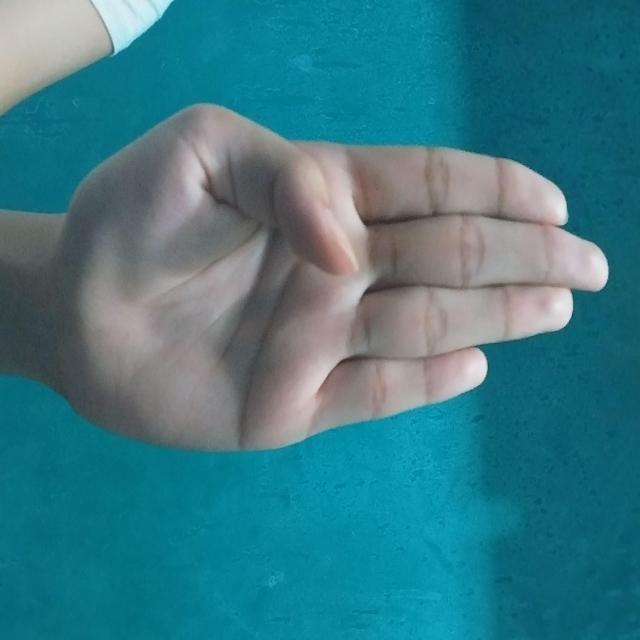B: (102, 26, 454, 587)
